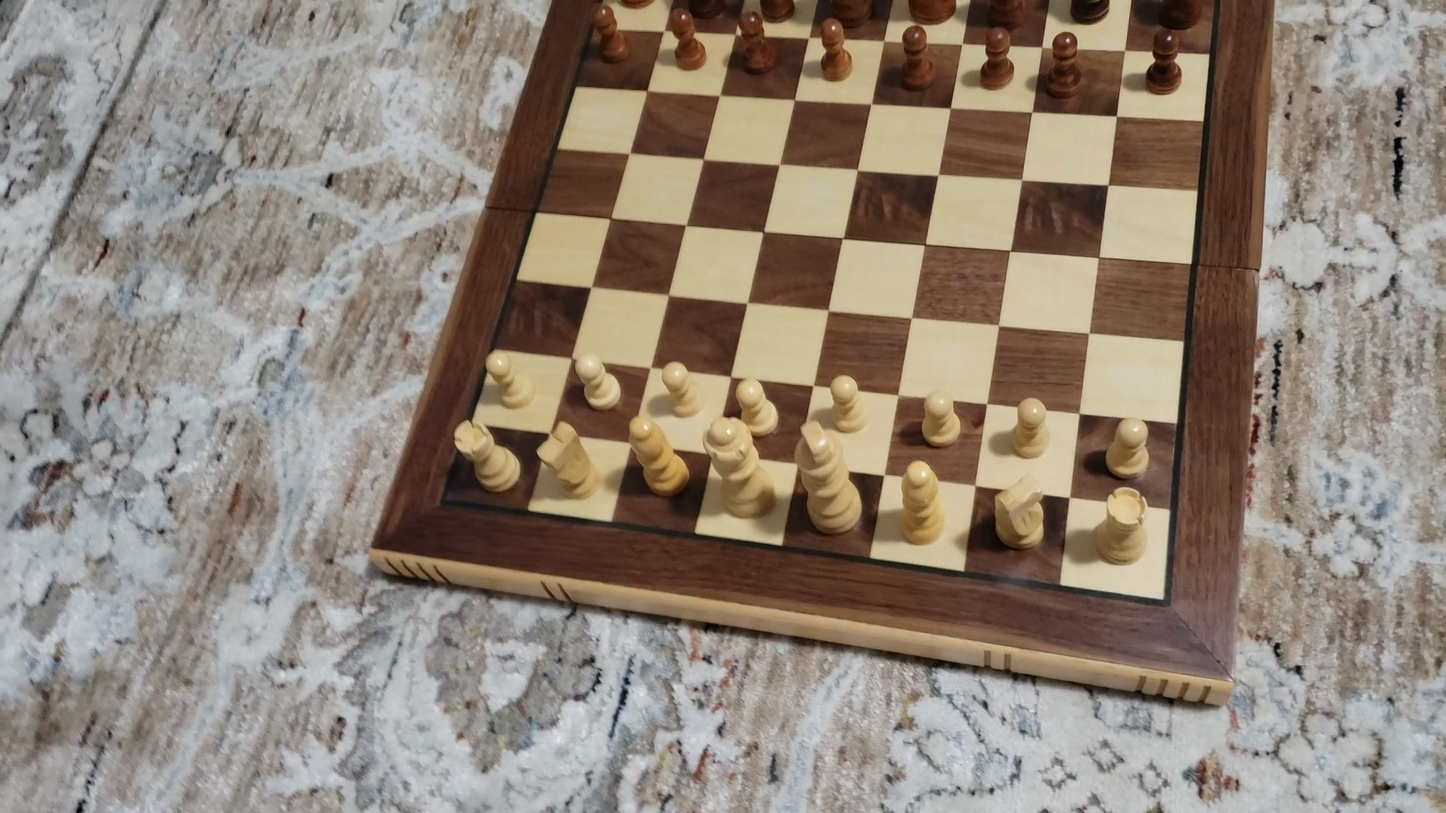black-pawn: (1145, 26, 1184, 97), (734, 9, 775, 76), (1044, 29, 1082, 99), (666, 5, 705, 71), (590, 2, 628, 66), (898, 22, 933, 91), (818, 15, 852, 83), (980, 25, 1014, 91)
white-bishop: (625, 415, 691, 500), (896, 457, 948, 548)
white-king: (791, 420, 865, 538)
white-knight: (535, 420, 603, 501), (987, 473, 1049, 554)
white-pawn: (481, 347, 538, 412), (570, 348, 624, 414), (1102, 414, 1152, 483), (731, 374, 780, 440), (1008, 394, 1052, 462), (917, 388, 963, 451), (825, 371, 869, 435), (658, 358, 702, 418)
white-queen: (702, 415, 779, 522)
white-rook: (450, 418, 524, 496), (1090, 484, 1154, 570)
